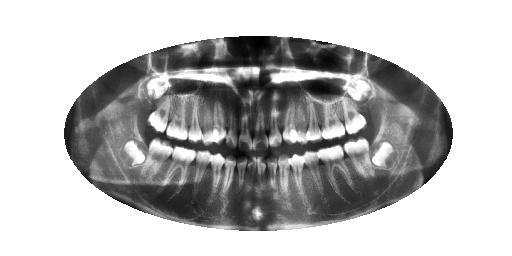Cavity: (250, 105, 271, 151)
Impacted Tooth: (117, 137, 147, 168)
